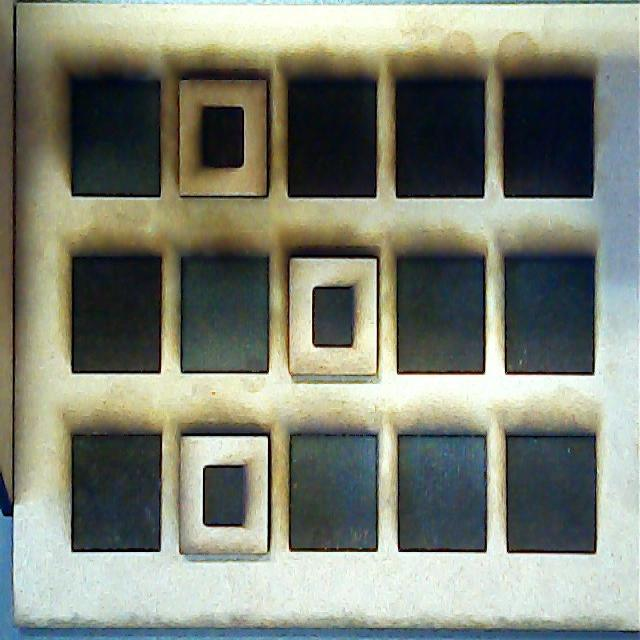square: (278, 240, 385, 387), (173, 64, 275, 208), (177, 430, 273, 555)
